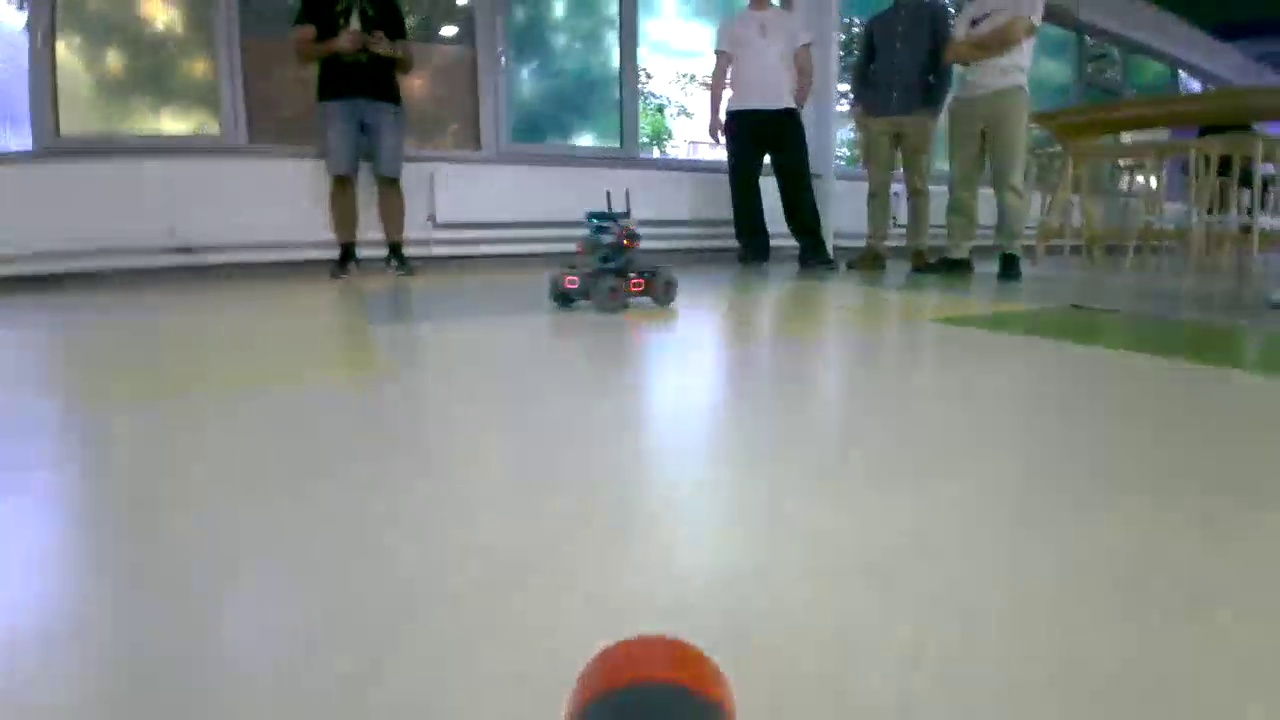robot: (549, 212, 678, 313)
